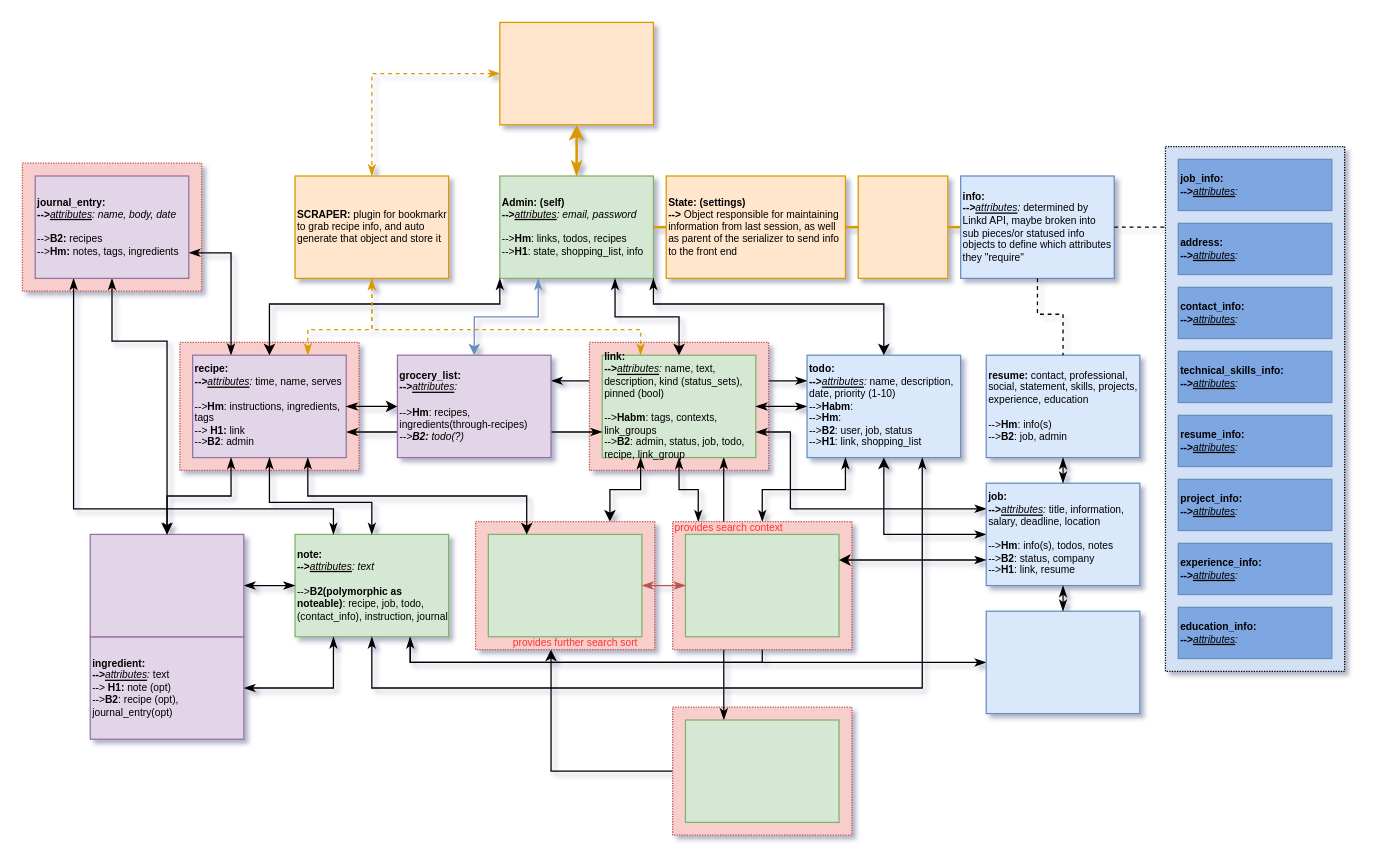
The diagram is 1375 pixels wide and 865 high, and some of its shapes have lost their labels. The centre of each missing label's shape, as x and y in pixels:
"BOOKMARKR: --> attributes : --> Habm : --> Hm : --> B2 : --> H1 :" goes at point 576,73.
"company: --> attributes : name, ranking --> Hm : notes, jobs, info(s)" goes at point 1062,662.
"context: --> attributes : type --> Hm : jobs, todos, notes -->Habm: links" goes at point 761,585.
"instruction: --> attributes : number, text --> H1 : note (opt) --> B2 : recipe" goes at point 166,585.
"link_group: --> attributes : name -->Habm: links" goes at point 761,770.
"LINKEDINAPI: --> Single source of truth, button update for fetch" goes at point 902,226.
"tag: --> attributes : name --> Habm : recipes, links, link_groups" goes at point 564,585.
